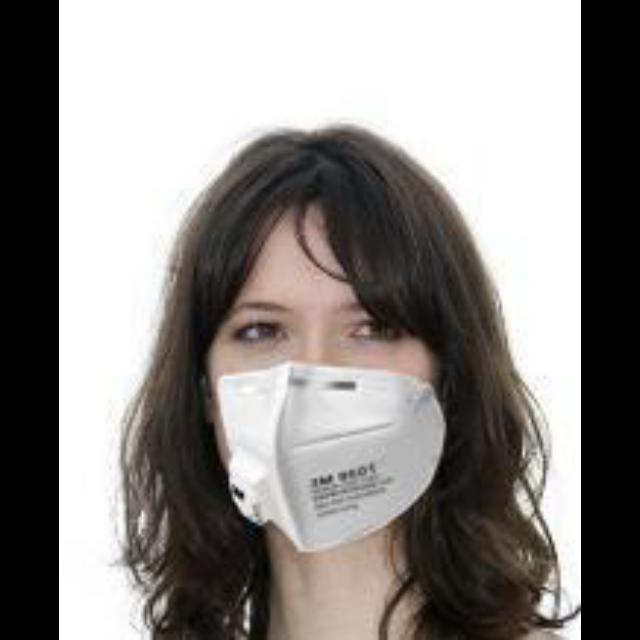suspicion: (163, 162, 444, 548)
